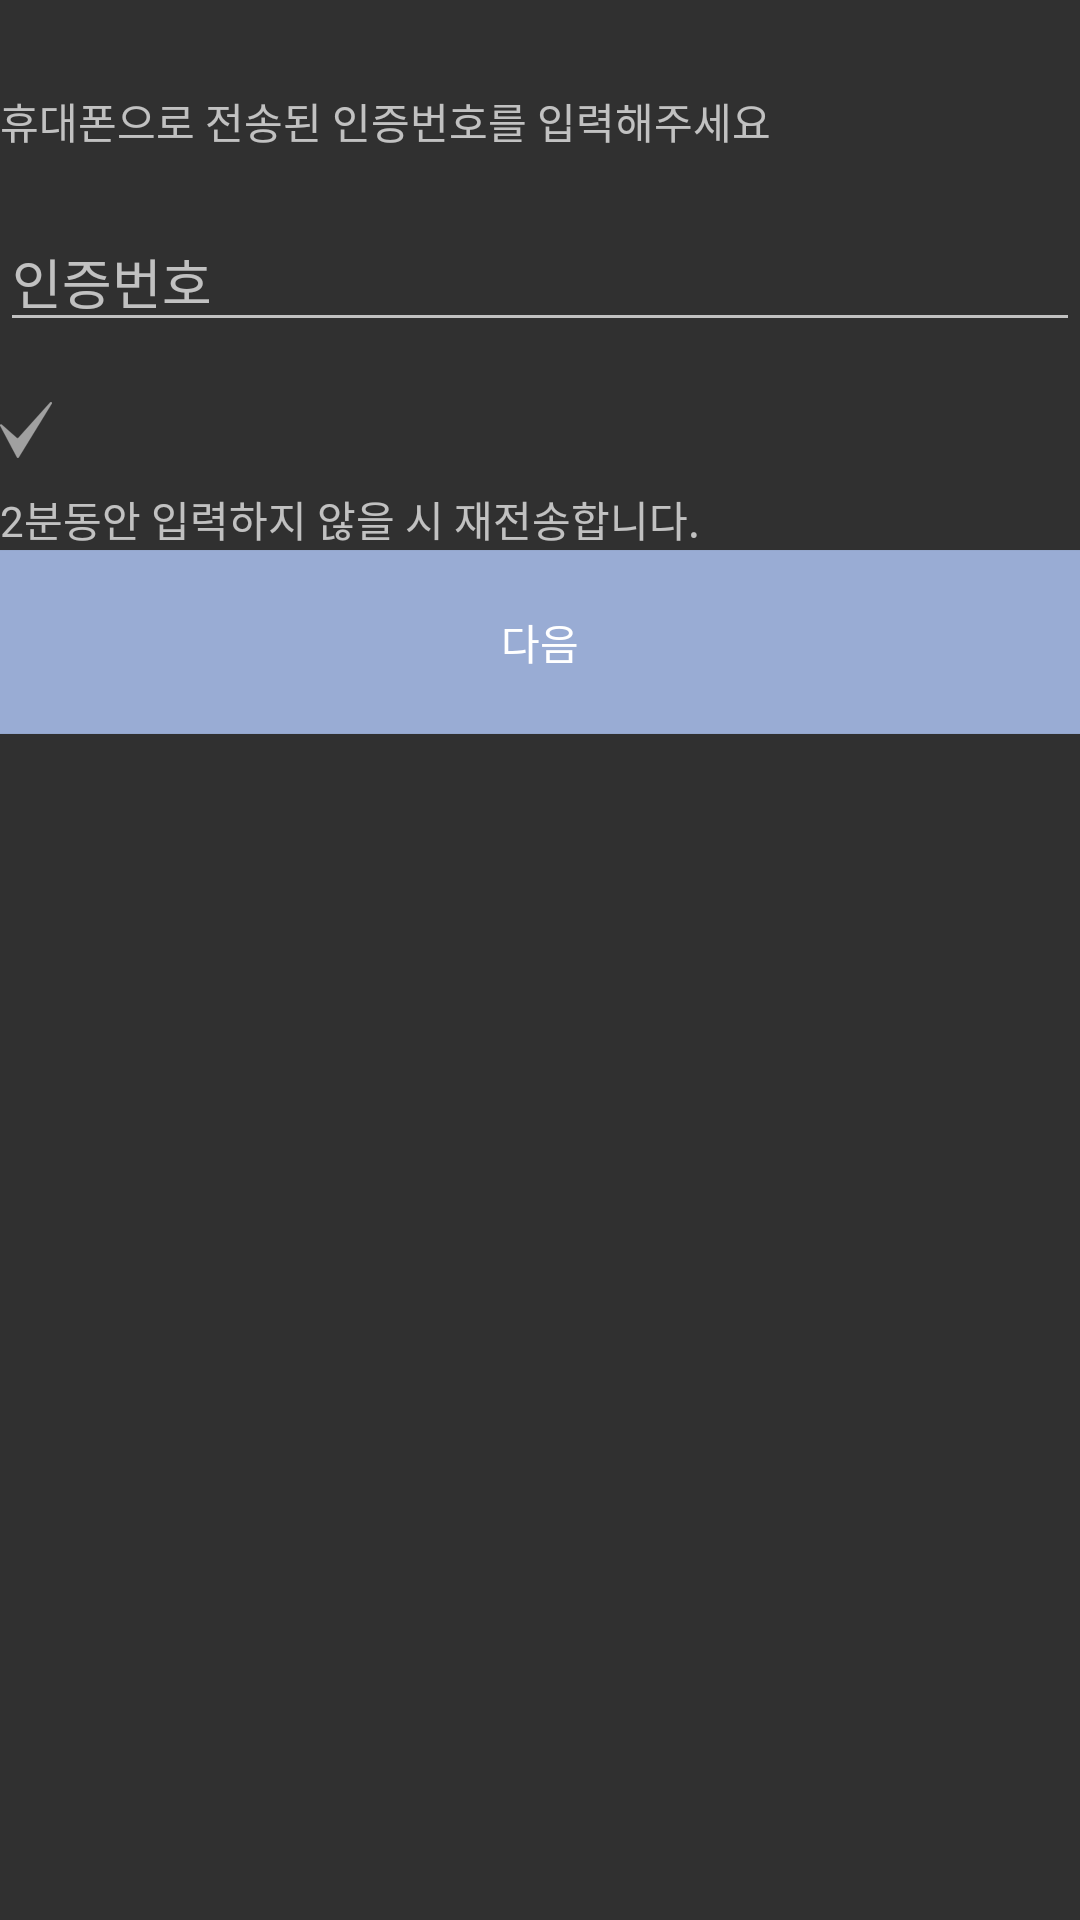

Screen size 1080*1920. Icon name, then its center in pixels as (x=x, y=y):
check: (x=26, y=430)
